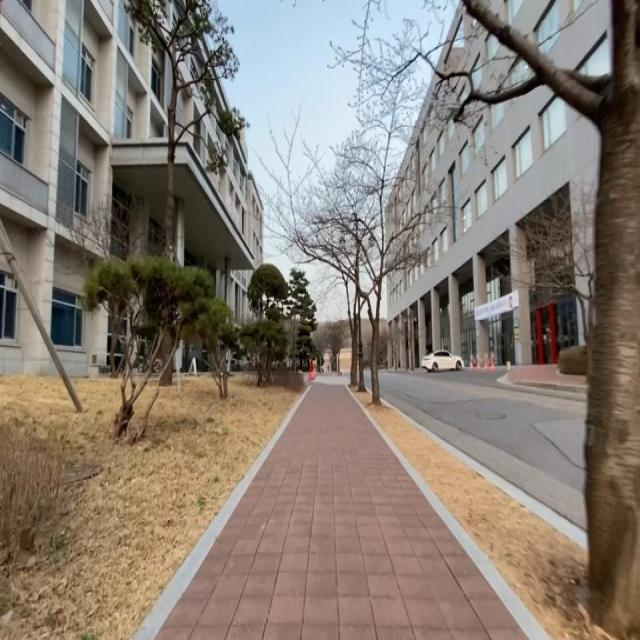sidewalk: (154, 384, 531, 640), (507, 364, 586, 386)
